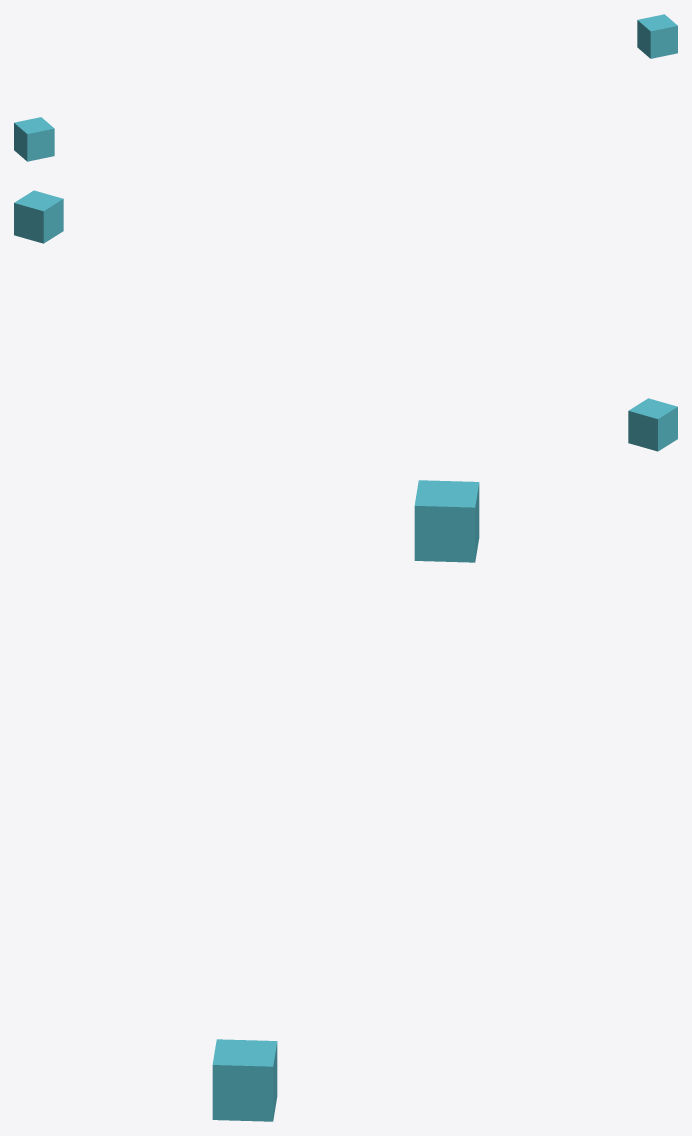
File: 1004_chimney.glb
3 renders of one model, top to bottom at view 1: azimuth 30°, elevation 25°; view 2: azimuth 150°, elevation 25°; view 3: azimuth 270°, elevation 25°, orthographic. The views are drawn at different scales.
Visible parts, largest first — view 1: Box004, Box005; view 2: Box004, Box005; view 3: Box004, Box005.
Boxes of the visible parts, <box> form: Box004: <box>14,117,54,161</box>; Box005: <box>637,14,677,58</box>; Box004: <box>628,398,677,451</box>; Box005: <box>14,190,63,243</box>; Box004: <box>414,480,479,562</box>; Box005: <box>212,1039,277,1121</box>.
Bounding box in the file's own units: 18.96 × 0.8302 × 3.65.
